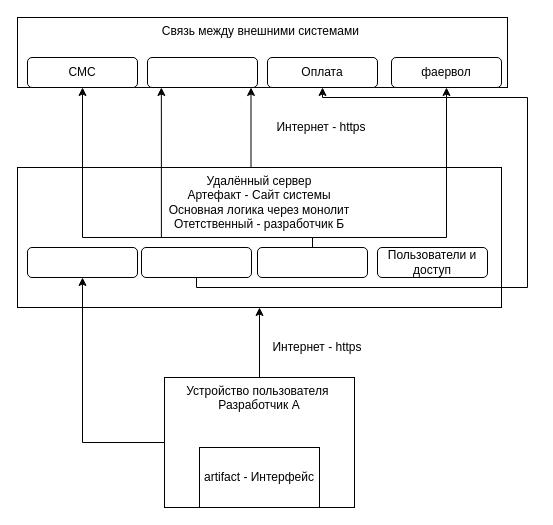
This 553x525 diagram has some shape labels left out. The shapes that lost their labels are listed below. From the top down, each one's centre as x and y in pixels, then its label:
point 202,72: Email
point 82,262: Интерфейс и API
point 196,262: Обучение и курсы
point 312,262: Организация и администрация
